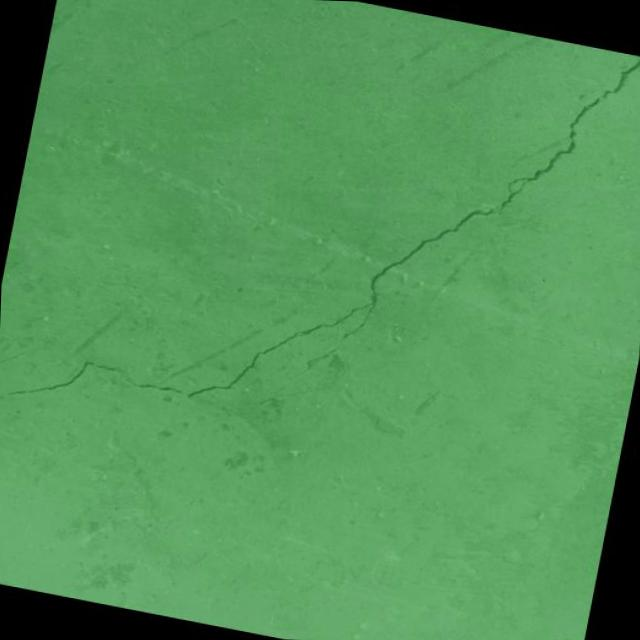crack: (0, 0, 640, 515), (219, 361, 334, 434), (286, 339, 338, 388), (0, 339, 35, 380)
